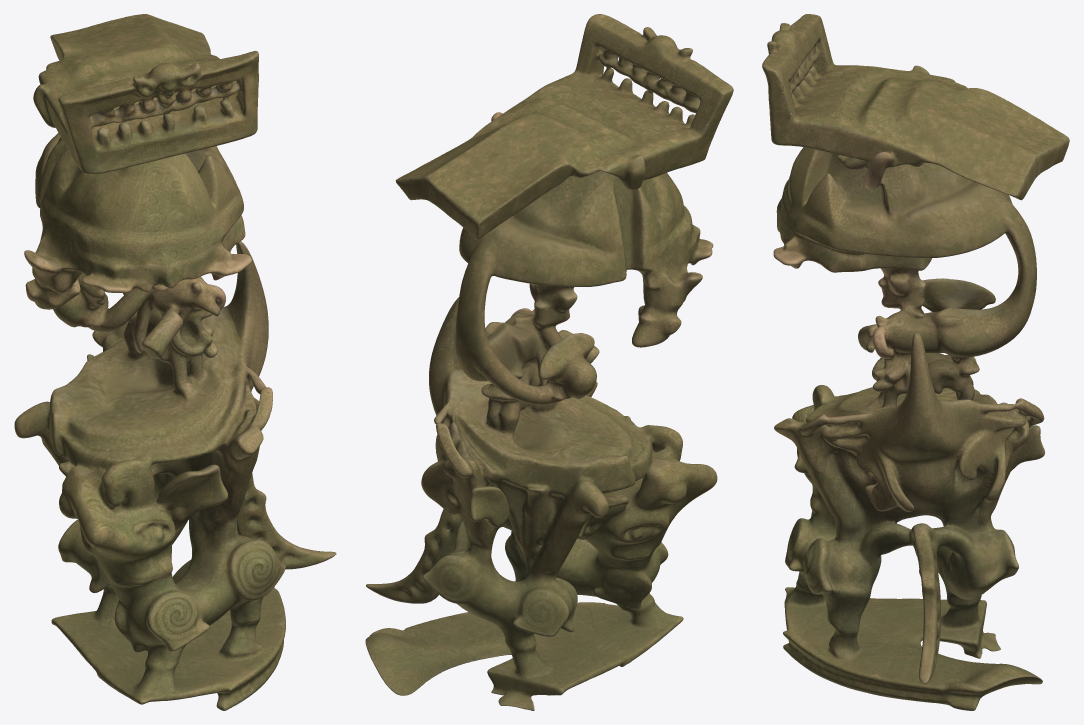
File: ancient-guardian.glb
3 views of the same model, side by side, from view 1: azimuth 30°, elevation 25°; view 2: azimuth 150°, elevation 25°; view 3: azimuth 270°, elevation 25° (orthographic). The views are drawn at different scales.
Size of the model in its own units: 1.02 by 1.9 by 0.8901.
1 material, 1 textured.
